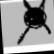not correct: (12, 0, 53, 45)
